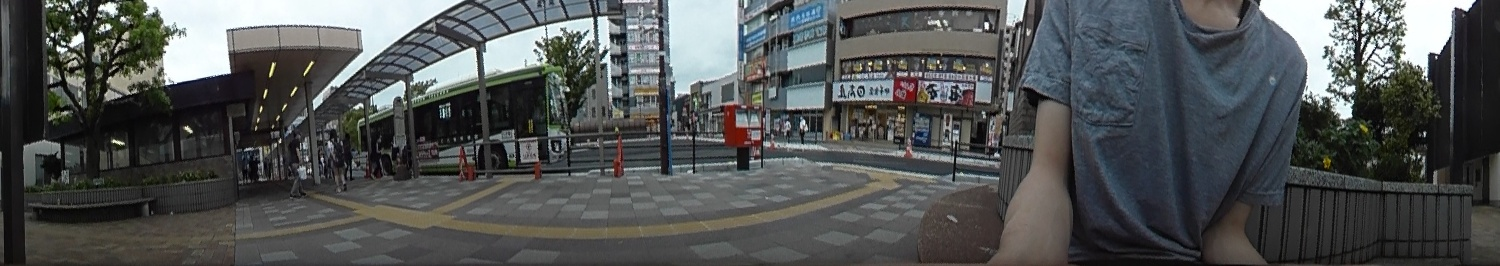difficult_person: (286, 130, 302, 195), (327, 128, 341, 186), (371, 133, 383, 180), (342, 131, 352, 182), (798, 114, 808, 139)
